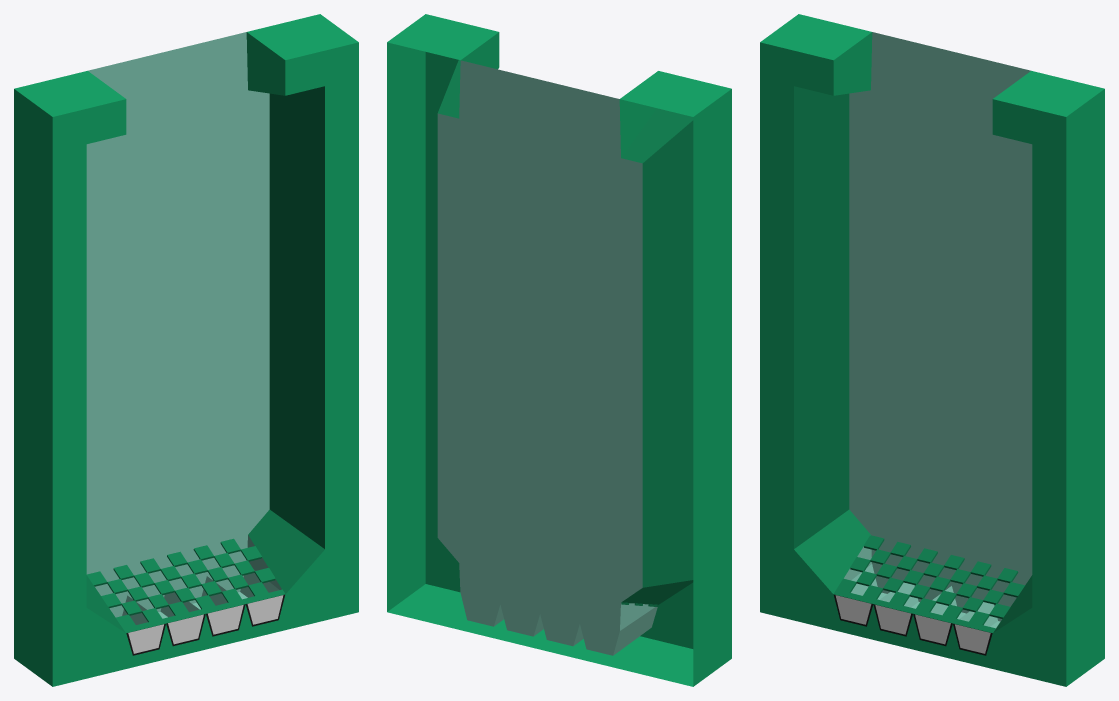
The model's file is background_green.fbx.
The picture shows the model from 3 angles, left to right: view 1: azimuth 30°, elevation 25°; view 2: azimuth 150°, elevation 25°; view 3: azimuth 330°, elevation 25°; orthographic projection.
Visible parts, largest first — view 1: background_green, grille.green; view 2: background_green; view 3: background_green, grille.green.
Boxes of the visible parts, bbox=[...] form: background_green: bbox=[14, 14, 358, 686]; grille.green: bbox=[87, 538, 285, 633]; background_green: bbox=[387, 14, 731, 686]; background_green: bbox=[760, 14, 1104, 686]; grille.green: bbox=[833, 535, 1024, 633].
Bounding box in the file's own units: 8.99 × 15.99 × 1.97.
